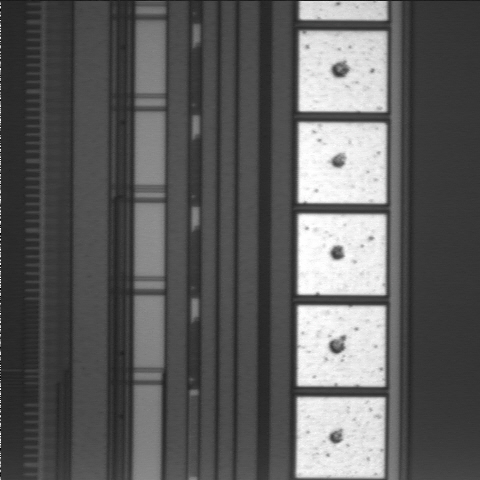pad: (297, 305, 385, 387), (296, 397, 385, 478), (299, 31, 387, 112), (298, 122, 386, 203), (298, 214, 386, 295)
